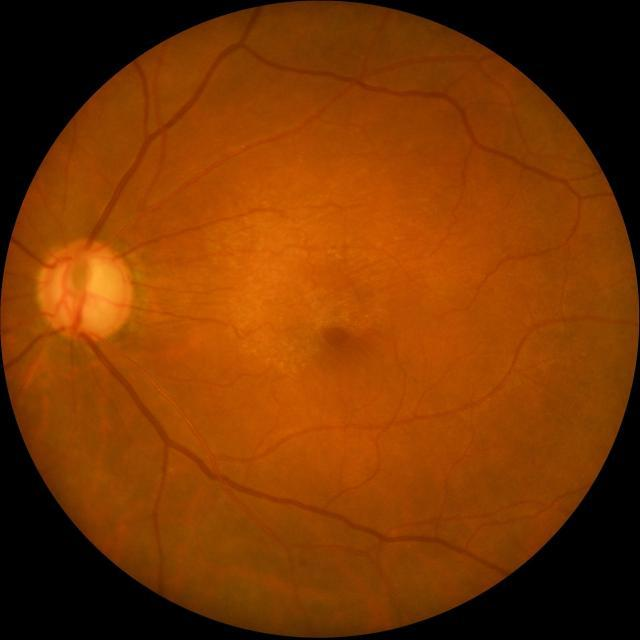OC: (52, 255, 120, 325)
OD: (36, 240, 134, 340)
